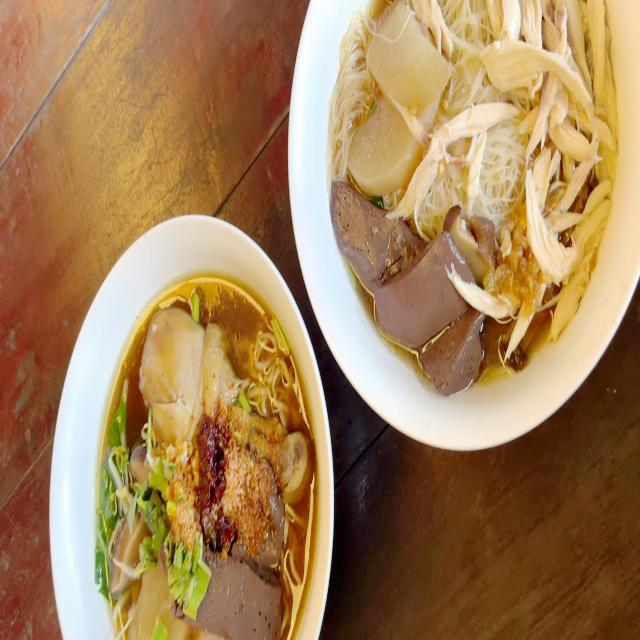boiled_chicken_blood_jelly: (368, 236, 458, 343), (203, 556, 286, 640), (326, 184, 394, 281), (432, 319, 488, 395), (263, 497, 287, 556)
chicken_drumstick: (142, 306, 308, 488)
chicken_shredded: (499, 0, 621, 340), (404, 100, 523, 212), (457, 276, 515, 312)
daikon_radish: (374, 0, 443, 109), (356, 106, 414, 186), (134, 571, 183, 640)
noodle: (336, 0, 640, 338), (98, 288, 322, 640)
